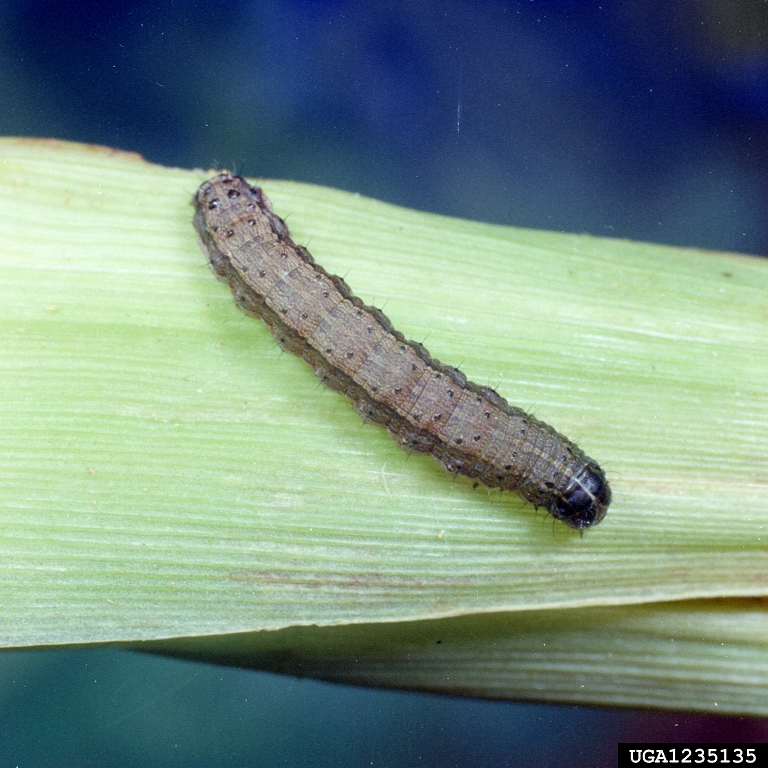Armyworm: (176, 157, 632, 542)
